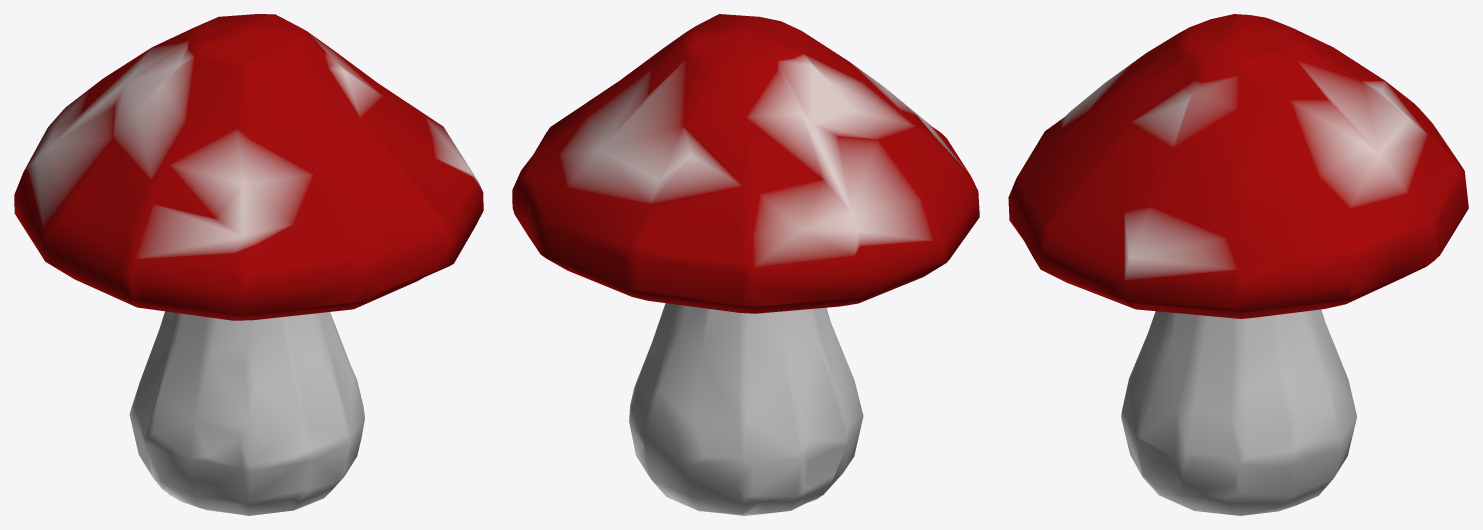
Rendered from gen3d-giant-toadstool-lod1.glb.
3 views of the same model, side by side, from view 1: azimuth 30°, elevation 25°; view 2: azimuth 150°, elevation 25°; view 3: azimuth 270°, elevation 25° (orthographic).
Parts seen in each view (by area): view 1: part_0; view 2: part_0; view 3: part_0.
Part boxes in pixels (box(x1,y1,x2,y2)): part_0: box(14, 14, 483, 515); part_0: box(512, 14, 979, 515); part_0: box(1008, 14, 1468, 515).
Size of the model in its own units: 0.9041 by 0.996 by 0.8929.
